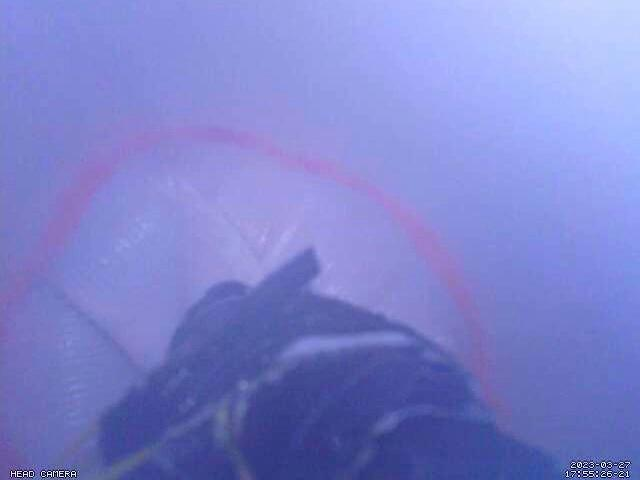head: (0, 125, 514, 480)
